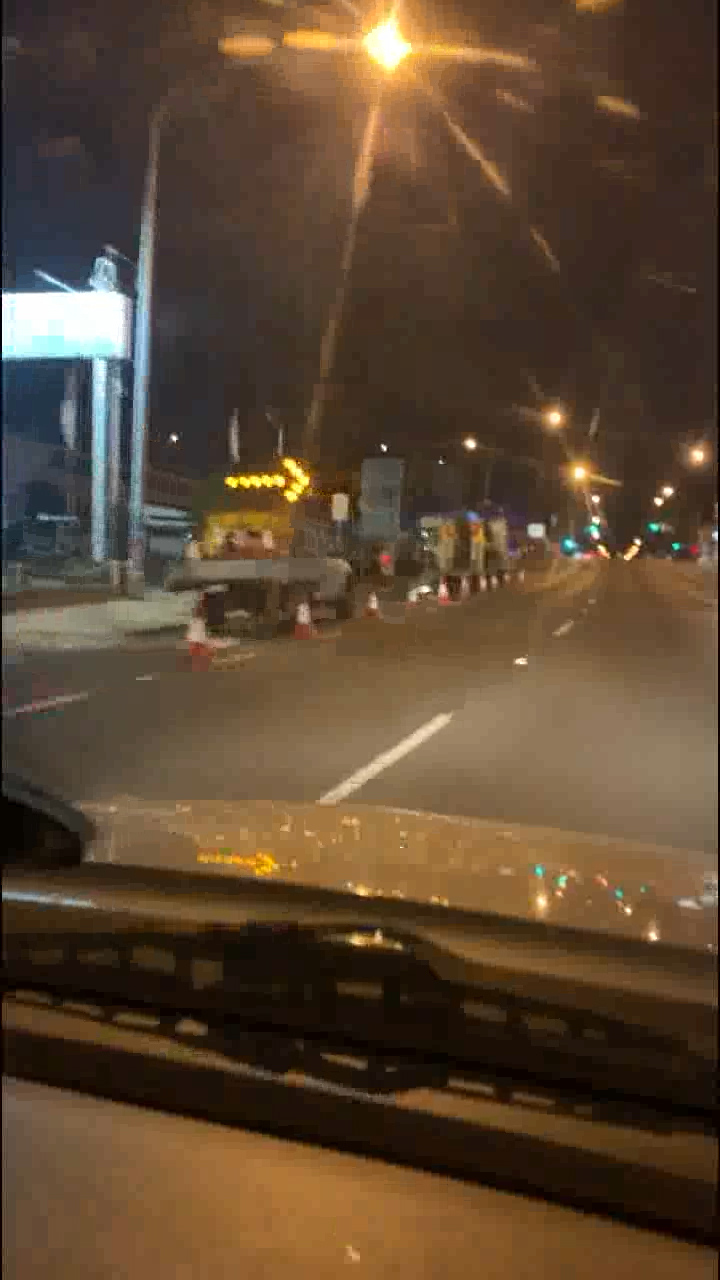road cone: (430, 578, 453, 612)
truck: (197, 468, 363, 615)
